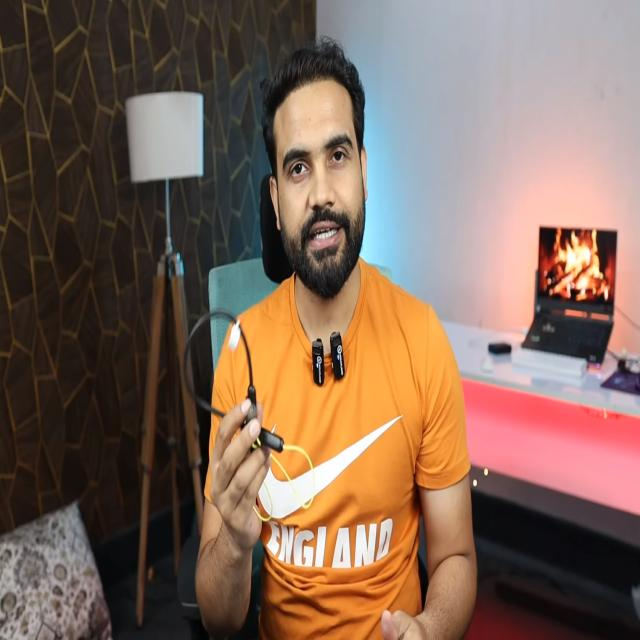Neckband: (183, 307, 315, 522)
